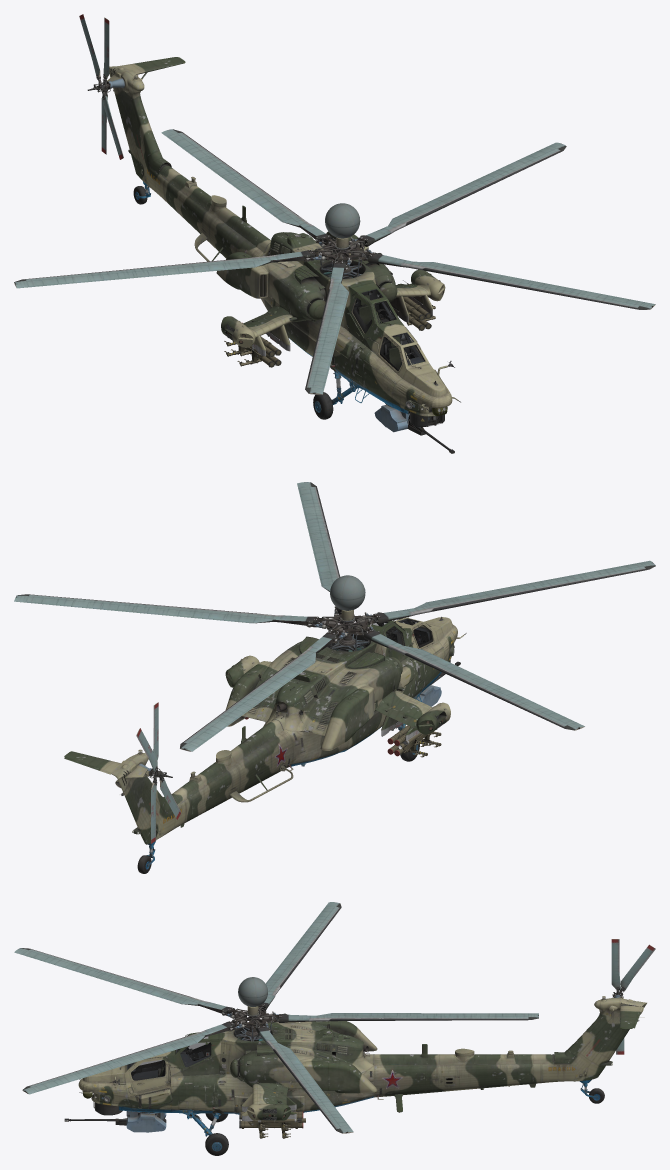
The model's file is mi-28nm_1_custom_payload_war_thunder.glb.
The picture shows the model from 3 angles, top to bottom: view 1: azimuth 30°, elevation 25°; view 2: azimuth 150°, elevation 25°; view 3: azimuth 270°, elevation 25°; orthographic projection. The views are drawn at different scales.
Visible parts, largest first — view 1: Object_6, Object_29, Object_27, Object_30, Object_13, Object_25, Object_14, Object_24, Object_12, Object_26; view 2: Object_6, Object_29, Object_27, Object_30, Object_13, Object_25, Object_12, Object_14, Object_24; view 3: Object_27, Object_30, Object_6, Object_29, Object_13, Object_12, Object_14, Object_25, Object_26, Object_24, Object_23, Object_22.
Part boxes in pixels (x1=…): Object_6: x1=14, y1=129, x2=655, y2=394; Object_29: x1=216, y1=236, x2=459, y2=416; Object_27: x1=107, y1=57, x2=454, y2=453; Object_30: x1=251, y1=231, x2=460, y2=416; Object_13: x1=79, y1=14, x2=360, y2=419; Object_25: x1=221, y1=280, x2=439, y2=421; Object_14: x1=134, y1=76, x2=443, y2=424; Object_24: x1=351, y1=289, x2=425, y2=370; Object_12: x1=306, y1=235, x2=380, y2=277; Object_26: x1=385, y1=269, x2=445, y2=422; Object_6: x1=14, y1=482, x2=655, y2=751; Object_29: x1=263, y1=616, x2=466, y2=767; Object_27: x1=64, y1=659, x2=460, y2=848; Object_30: x1=225, y1=617, x2=464, y2=770; Object_13: x1=136, y1=575, x2=419, y2=873; Object_25: x1=375, y1=690, x2=450, y2=740; Object_12: x1=308, y1=606, x2=380, y2=651; Object_14: x1=121, y1=619, x2=433, y2=795; Object_24: x1=303, y1=618, x2=432, y2=766; Object_27: x1=64, y1=995, x2=646, y2=1132; Object_30: x1=78, y1=1022, x2=384, y2=1119; Object_6: x1=14, y1=902, x2=538, y2=1133; Object_29: x1=78, y1=1021, x2=384, y2=1118; Object_13: x1=205, y1=939, x2=655, y2=1155; Object_12: x1=222, y1=1004, x2=285, y2=1041; Object_14: x1=94, y1=997, x2=639, y2=1117; Object_25: x1=241, y1=1083, x2=296, y2=1121; Object_26: x1=129, y1=1103, x2=291, y2=1120; Object_24: x1=126, y1=1044, x2=211, y2=1076; Object_23: x1=129, y1=1042, x2=211, y2=1080; Object_22: x1=248, y1=1121, x2=300, y2=1138.
Size of the model in its own units: 16.36 by 6.26 by 19.18.
Materials: 17 (10 with a texture image).
